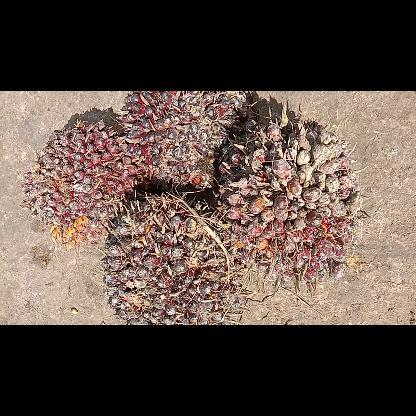Kurang masak: (214, 102, 368, 290), (102, 194, 244, 324), (22, 118, 148, 250), (121, 92, 254, 194)
